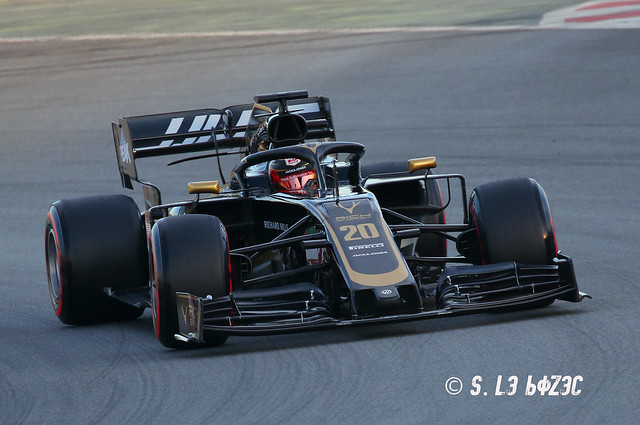F1 Car: (41, 85, 594, 348)
